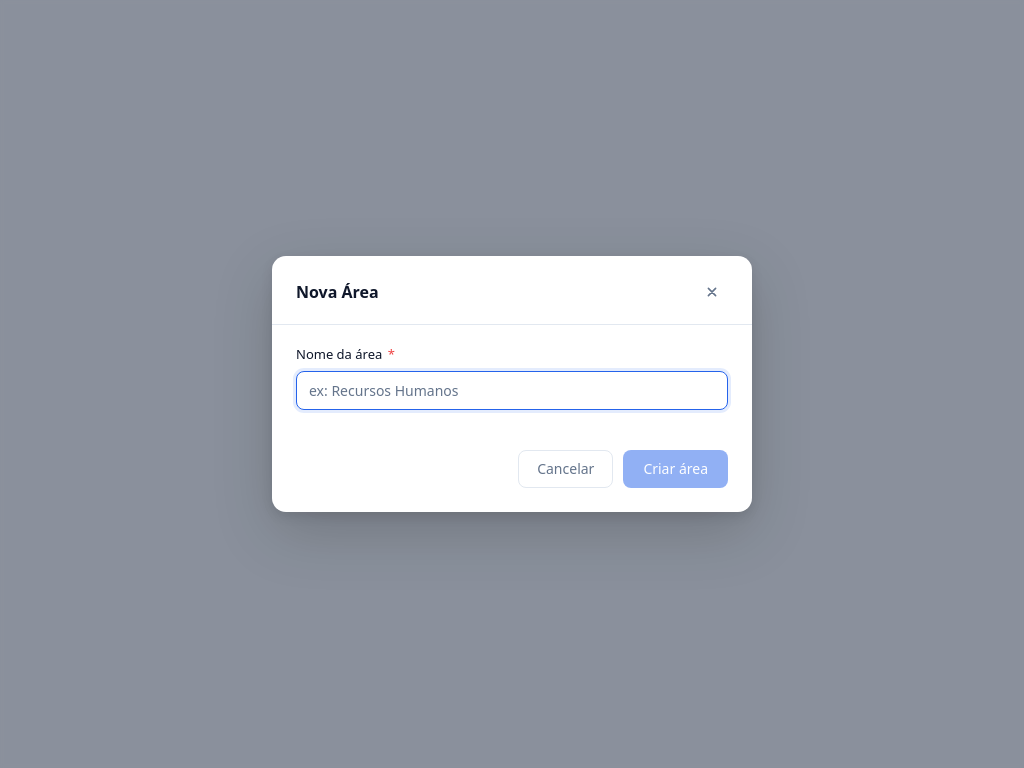
Scenario: AreaFormModal › create mode (no area prop) › shows an error message when areaService.create throws
Type "Finance" into the field with placeholder "ex: Recursos Humanos".
click(512, 390); type("Finance")  # box [296,371,728,410]
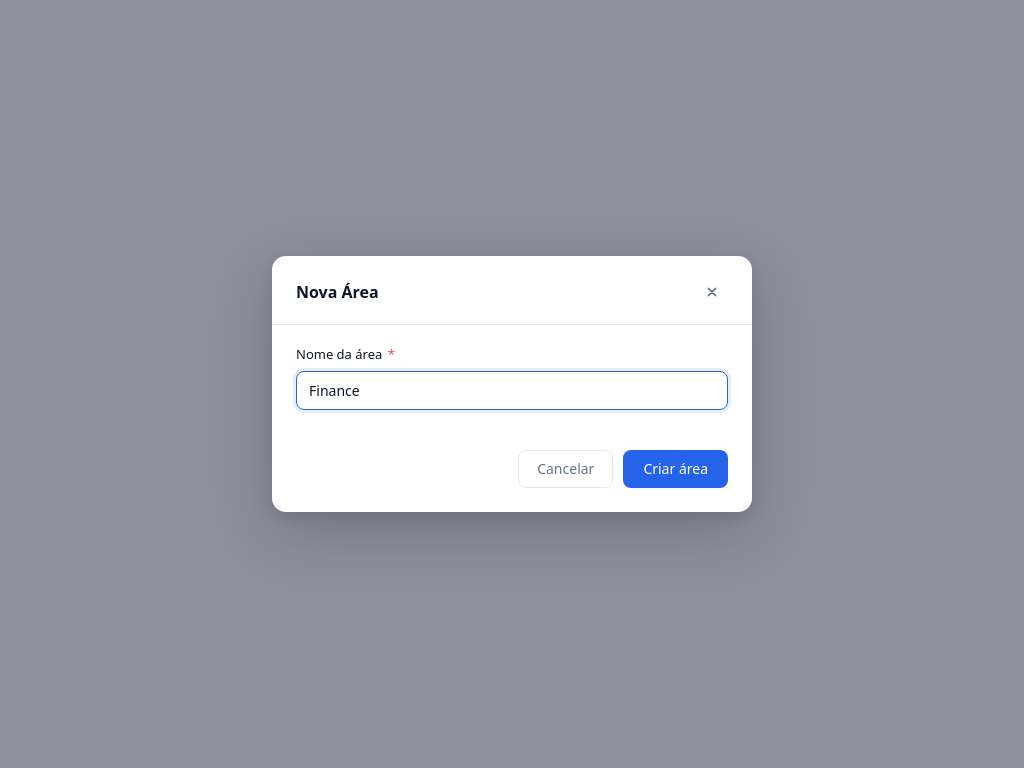
Click the button "Criar área".
click(676, 469)  # box [623,450,728,488]
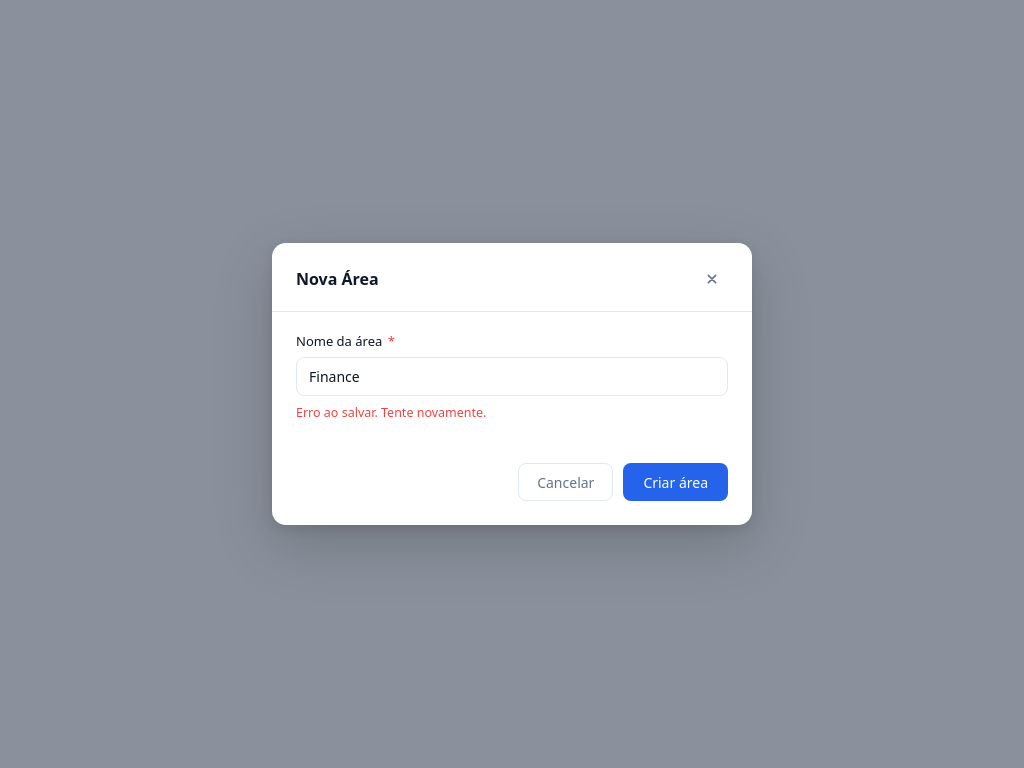
Check: the text "Erro ao salvar. Tente novamente." is shown, box [296,404,486,421]
